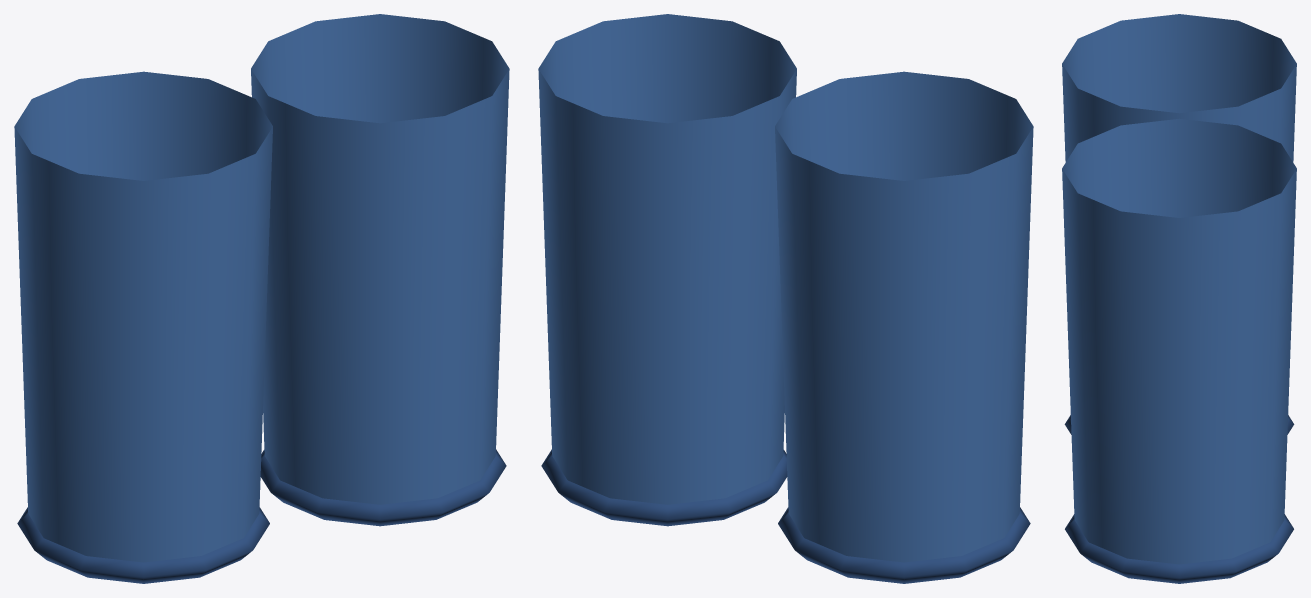
File: bottom_shorts.glb
3 views of the same model, side by side, from view 1: azimuth 30°, elevation 25°; view 2: azimuth 150°, elevation 25°; view 3: azimuth 270°, elevation 25° (orthographic). The views are drawn at different scales.
Visible parts, largest first — view 1: LegL, LegR; view 2: LegL, LegR; view 3: LegR, LegL.
Boxes of the visible parts, bbox=[...] form: LegL: bbox=[14, 71, 272, 583]; LegR: bbox=[251, 14, 509, 526]; LegL: bbox=[775, 71, 1033, 583]; LegR: bbox=[538, 14, 796, 526]; LegR: bbox=[1062, 118, 1296, 583]; LegL: bbox=[1062, 14, 1296, 434].
Size of the model in its own units: 0.37 by 0.315 by 0.18.
